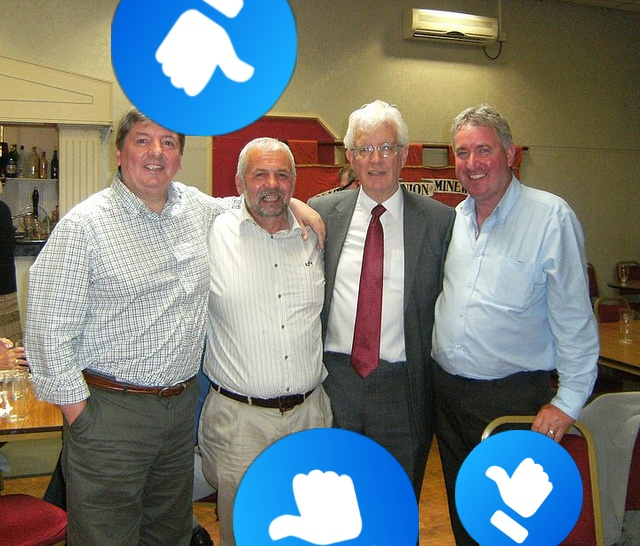like: (111, 0, 297, 136), (233, 428, 419, 546), (455, 430, 583, 546)
